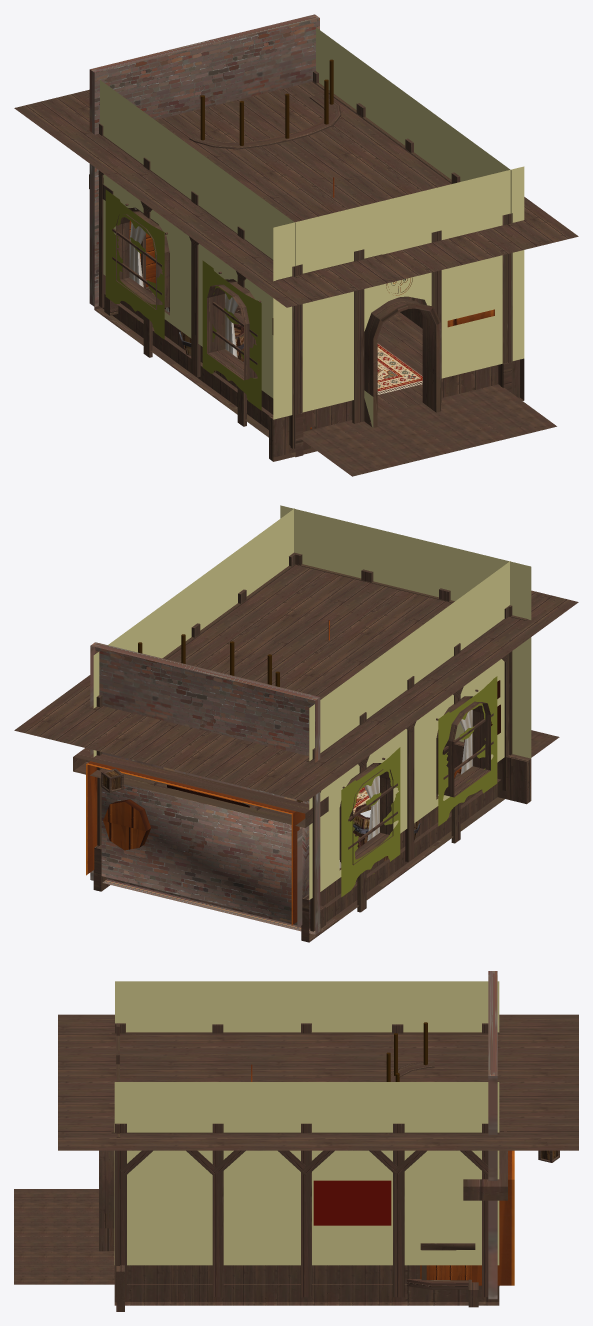
Rendered from escenariO2bar.fbx.
3 views of the same model, one above another, from view 1: azimuth 30°, elevation 25°; view 2: azimuth 150°, elevation 25°; view 3: azimuth 270°, elevation 25° (orthographic). The views are drawn at different scales.
Visible parts, largest first — view 1: techo, pared puerta, pared izq, pared fondo, suelo.001, pared derecha, cristal ventana, suelo, cristal ventana.001, Cube.025, top counter.001, alfombra (+7 smaller); view 2: techo, pared fondo, pared izq, pared puerta, pared derecha, estanteria fondo, deco estanteria.010, cristal ventana, cristal ventana.001, Cube.019, Cube.018, Cube.017; view 3: pared derecha, techo, pared izq, suelo.001, pizarra recetas, pared fondo, pared puerta, estanteria fondo, Cube.015, Cube.011, Cube.014, deco estanteria.010 (+7 smaller).
Part boxes in pixels (box(x1,y1,x2,y2)): techo: box(14, 81, 578, 307); pared puerta: box(269, 166, 524, 461); pared izq: box(94, 80, 303, 457); pared fondo: box(89, 14, 319, 306); suelo.001: box(300, 384, 556, 476); pared derecha: box(316, 27, 511, 392); cristal ventana: box(105, 189, 164, 339); suelo: box(117, 293, 422, 415); cristal ventana.001: box(202, 260, 261, 410); Cube.025: box(352, 249, 364, 423); top counter.001: box(189, 94, 341, 149); alfombra: box(377, 343, 422, 394); techo: box(14, 564, 578, 801); pared fondo: box(90, 642, 320, 934); pared izq: box(301, 561, 510, 942); pared puerta: box(280, 505, 531, 804); pared derecha: box(93, 508, 294, 891); estanteria fondo: box(86, 761, 305, 925); deco estanteria.010: box(73, 748, 328, 827); cristal ventana: box(341, 747, 400, 897); cristal ventana.001: box(438, 676, 497, 826); Cube.019: box(405, 676, 414, 862); Cube.018: box(502, 605, 510, 790); Cube.017: box(310, 748, 315, 931); pared derecha: box(114, 1082, 499, 1305); techo: box(58, 1014, 578, 1150); pared izq: box(115, 981, 499, 1032); suelo.001: box(14, 1189, 114, 1284); pizarra recetas: box(313, 1180, 391, 1225); pared fondo: box(488, 971, 497, 1299); pared puerta: box(99, 1150, 124, 1311); estanteria fondo: box(472, 1150, 514, 1285); Cube.015: box(212, 1123, 223, 1297); Cube.011: box(393, 1123, 403, 1297); Cube.014: box(301, 1123, 311, 1297); deco estanteria.010: box(463, 1150, 507, 1200).
Bounding box in the file's own units: 569 × 464 × 999.
